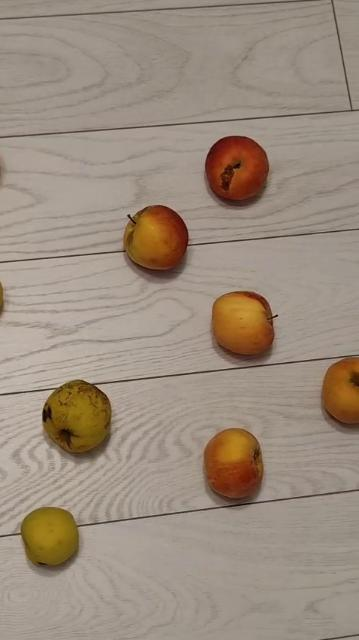apple_green: (42, 380, 111, 452), (20, 505, 79, 565)
apple_red: (204, 134, 269, 201), (203, 428, 264, 498), (211, 290, 277, 354), (124, 204, 188, 269), (321, 356, 358, 424)
